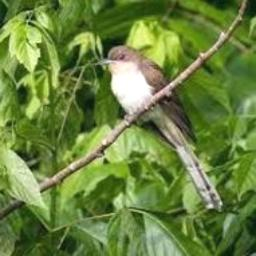Cuckoo: (97, 45, 225, 210)
